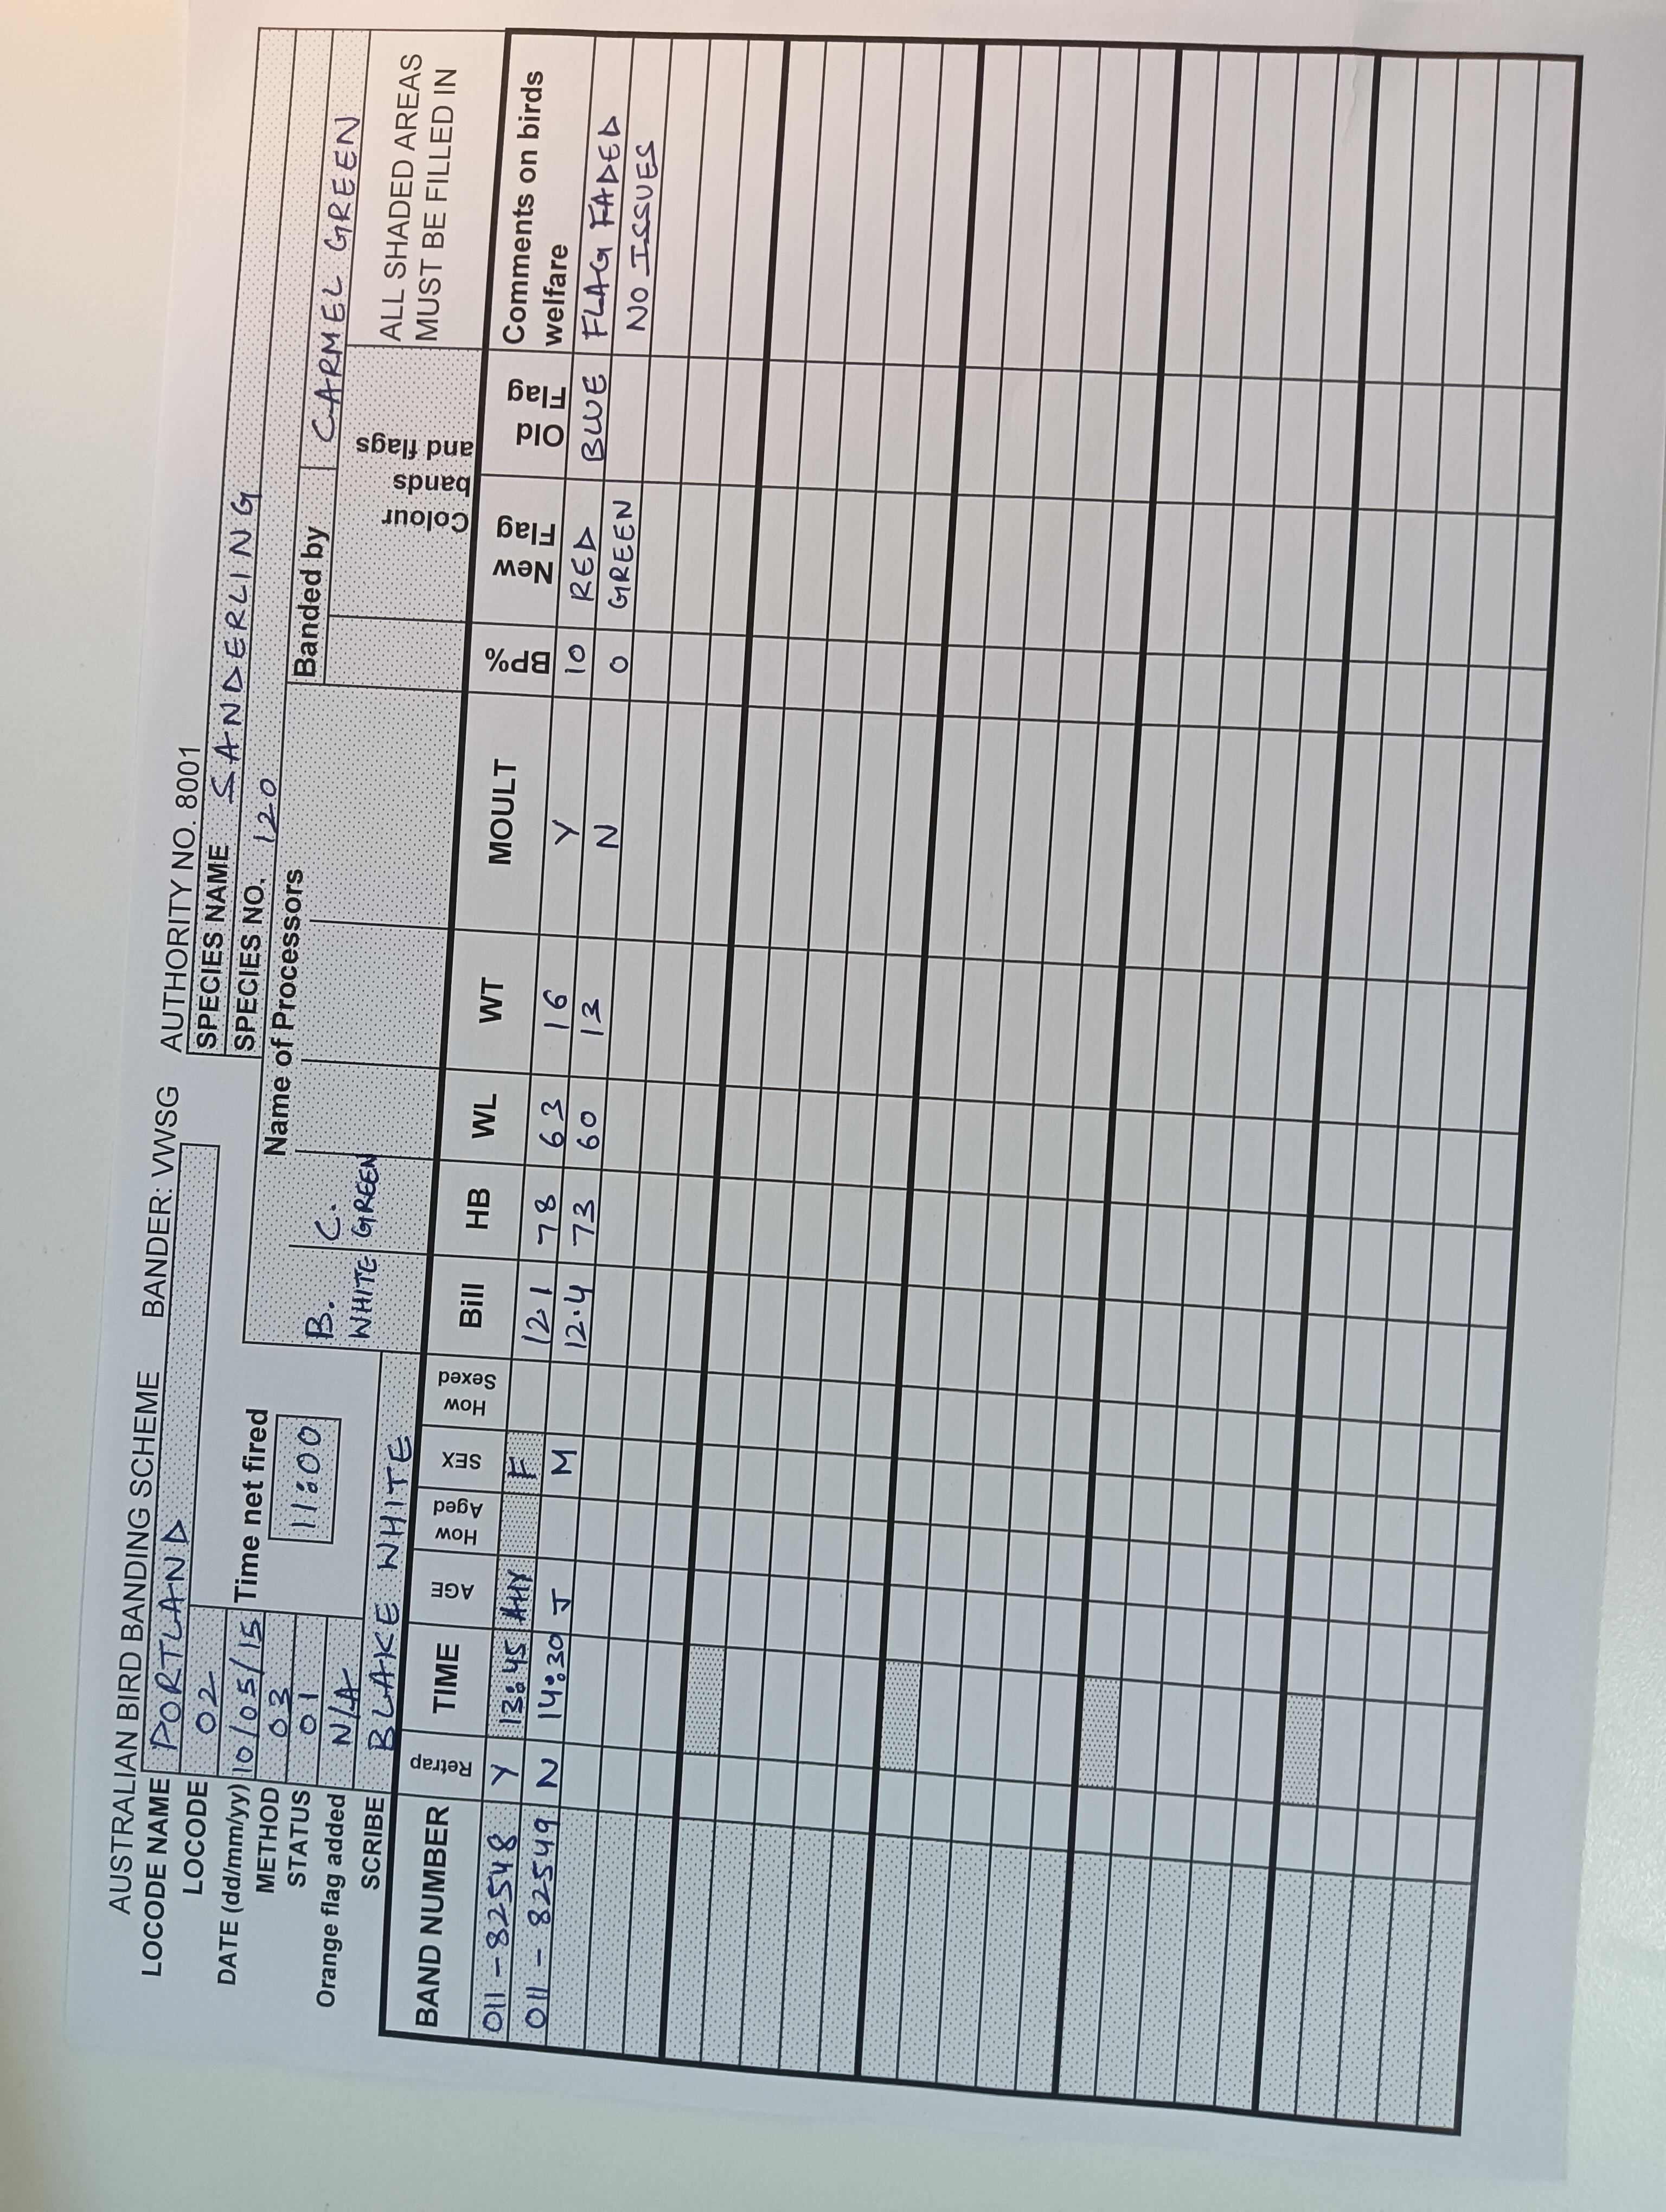BANDED_BY: (287, 31, 373, 687)
DATA: (507, 33, 674, 2051), (469, 33, 635, 2044)
DATE: (205, 1610, 266, 1997)
LOCOCODE: (173, 1605, 229, 1915)
LOCOCODE_NAME: (131, 1144, 221, 2000)
METHOD: (243, 1612, 301, 1916)
NAME_OF_PROCESSORS: (280, 1247, 429, 1352), (292, 1154, 432, 1250)
ORANGE_FLAG_ADDED: (301, 1619, 369, 2020)
SCRIBE: (348, 1353, 424, 1911)
SPECIES_NAME: (186, 30, 296, 1056)
SPECIES_NO: (227, 28, 329, 1058)
STATUS: (280, 1612, 332, 1899)
TIME_NET_FIRED: (221, 1381, 366, 1612)
